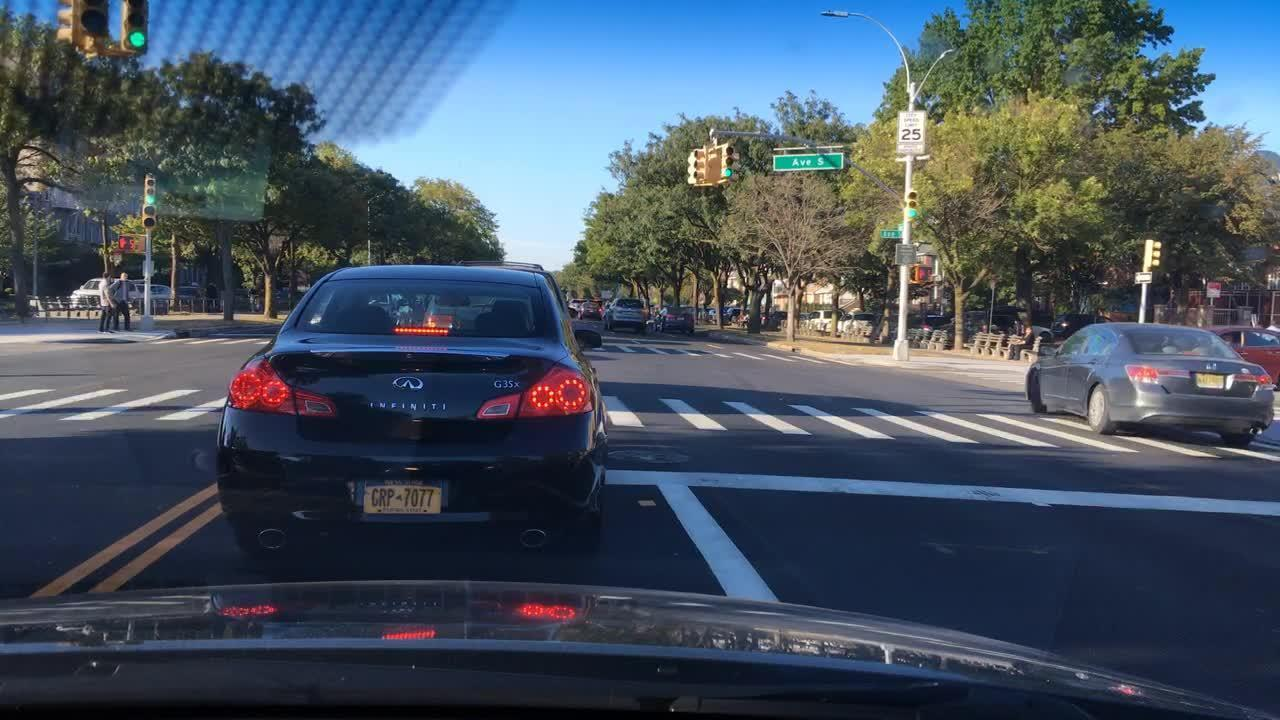Infiniti: (381, 370, 434, 401)
